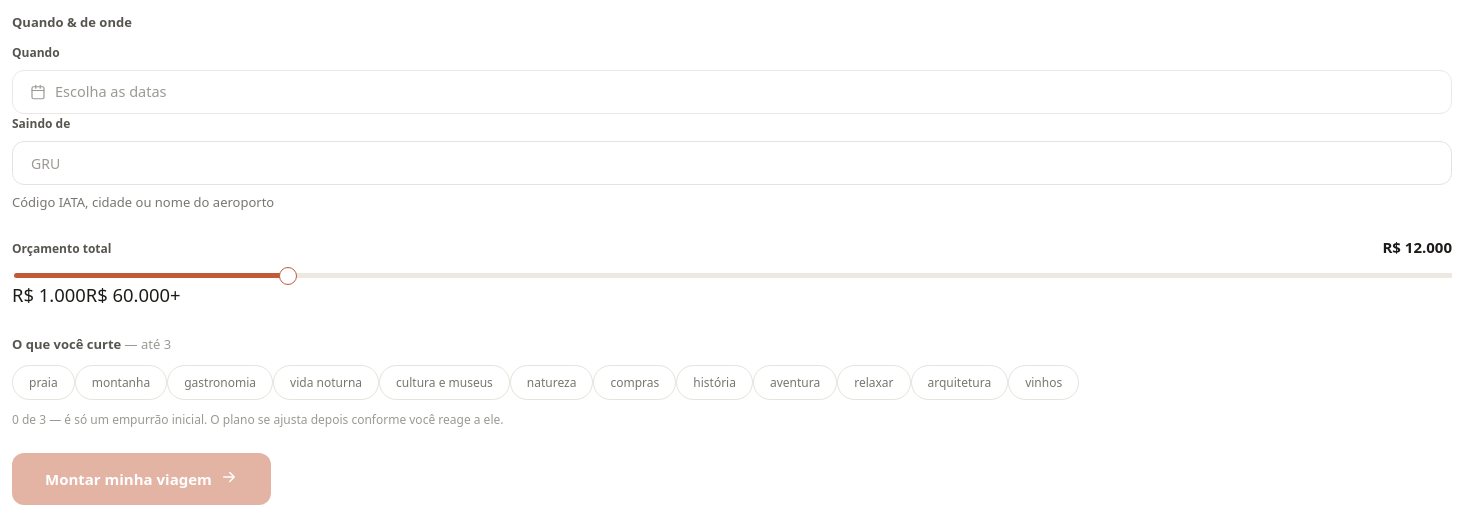
Test case: AutoForm › conta os gostos escolhidos
Click the button "praia" at (43, 382), box [12, 365, 75, 400]
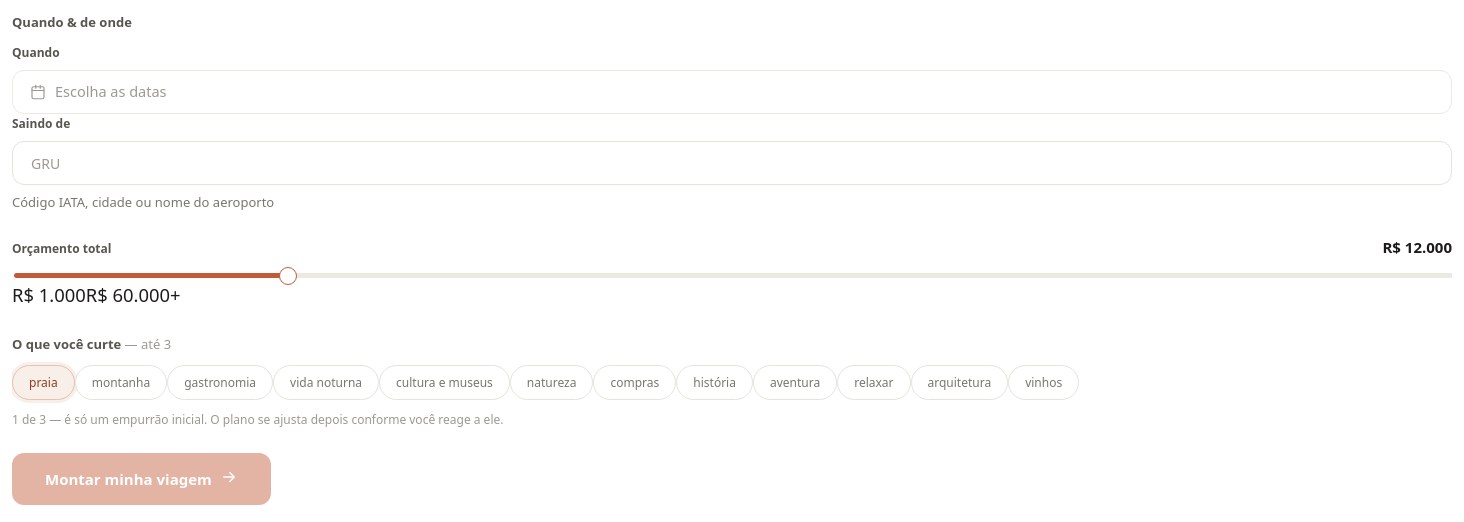
Check: the text "1 de 3" is shown, box [12, 411, 504, 428]
